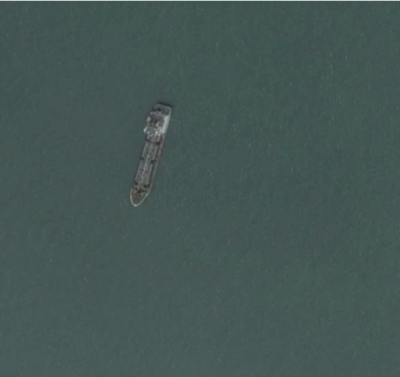boat: (129, 102, 174, 207)
